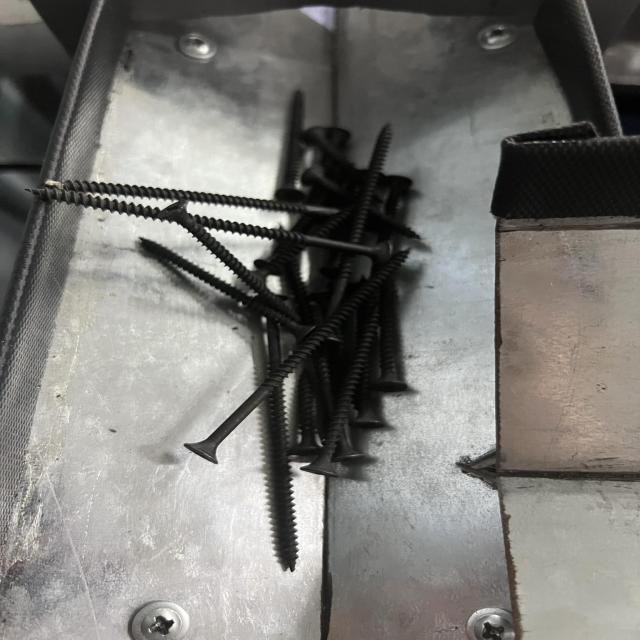screw: (183, 246, 412, 463)
